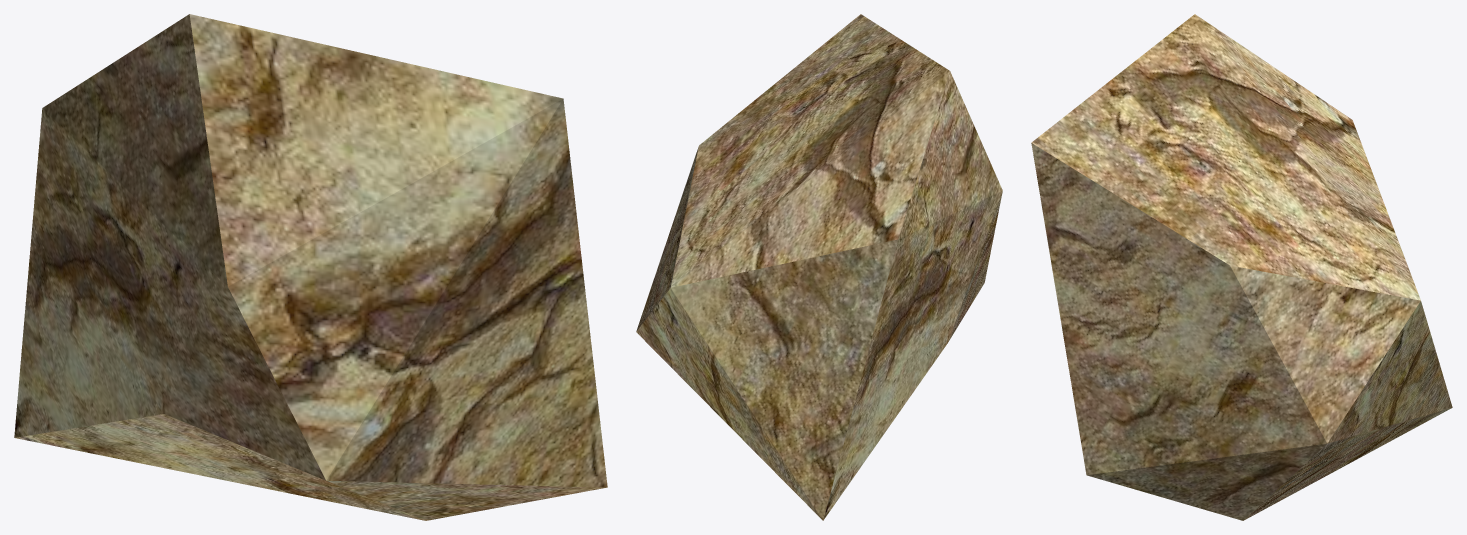
File: rock14.fbx
3 renders of one model, left to right at view 1: azimuth 30°, elevation 25°; view 2: azimuth 150°, elevation 25°; view 3: azimuth 270°, elevation 25°, orthographic. The views are drawn at different scales.
Visible parts, largest first — view 1: Rock14; view 2: Rock14; view 3: Rock14.
Part boxes in pixels (box(x1,y1,x2,y2)): Rock14: box(14, 14, 607, 520); Rock14: box(636, 14, 1002, 520); Rock14: box(1031, 14, 1452, 520).
Bounding box in the file's own units: 3.12 × 4.22 × 3.88.
